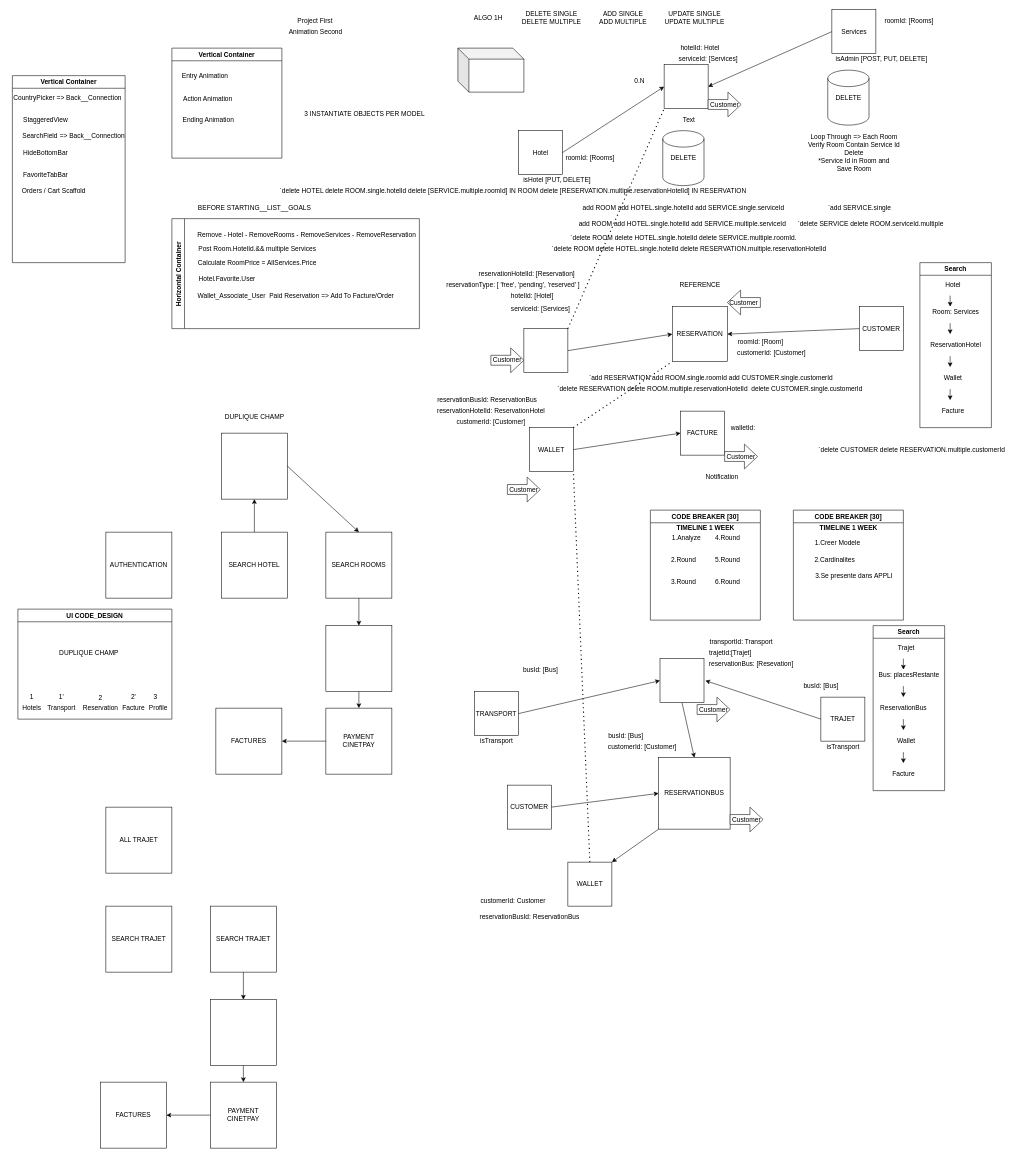
The diagram is 1017 pixels wide and 1158 high, and some of its shapes have lost their labels. Here are the shapes that lost their labels. From the top down, the centre of each, then its label:
At (x=490, y=70): "BACKGROUND CARDINALITES".
At (x=686, y=86): "Rooms".
At (x=545, y=350): "ROOM".
At (x=254, y=466): "ALL HOTEL".
At (x=358, y=658): "SINGLE ROOM ADD RESERVATION".
At (x=681, y=680): "BUS".
At (x=243, y=1032): "SINGLE BUS_NUMBER ADD RESERVATION".
